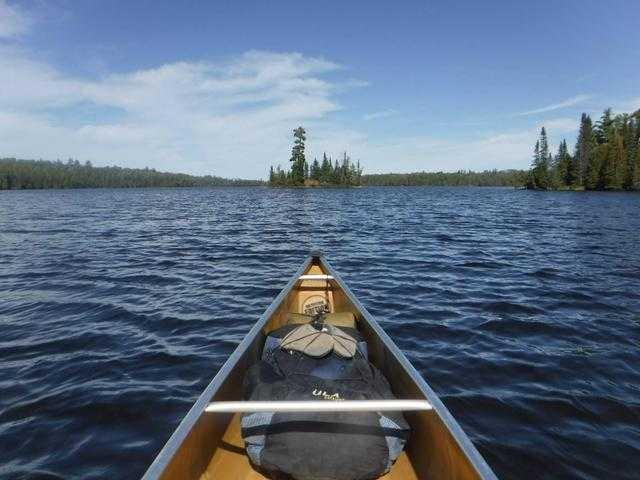kayak: (141, 249, 498, 479)
